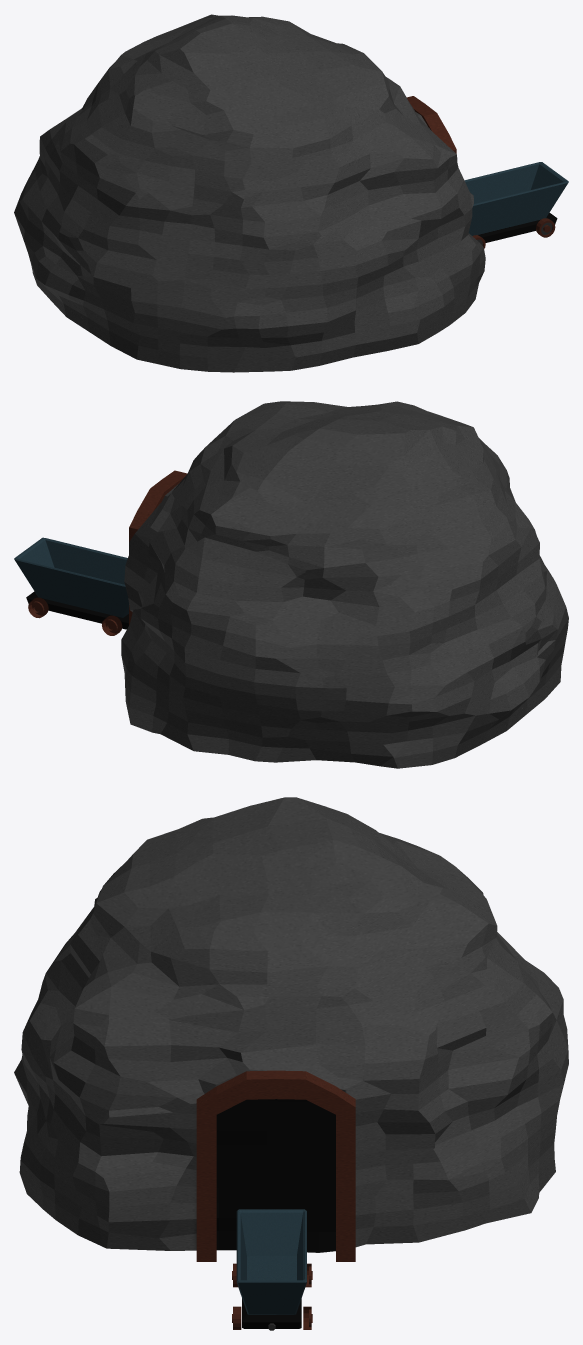
The model's file is MInaFerro.fbx.
The picture shows the model from 3 angles, top to bottom: view 1: azimuth 30°, elevation 25°; view 2: azimuth 150°, elevation 25°; view 3: azimuth 270°, elevation 25°; orthographic projection. The views are drawn at different scales.
Visible parts, largest first — view 1: MinaFerro; view 2: MinaFerro; view 3: MinaFerro.
Boxes of the visible parts, box(x1,y1,x2,y2) form: MinaFerro: box(14, 14, 568, 372); MinaFerro: box(14, 401, 568, 768); MinaFerro: box(14, 797, 568, 1330).
Bounding box in the file's own units: 793 × 391 × 613.
Materials: 1 (1 with a texture image).
